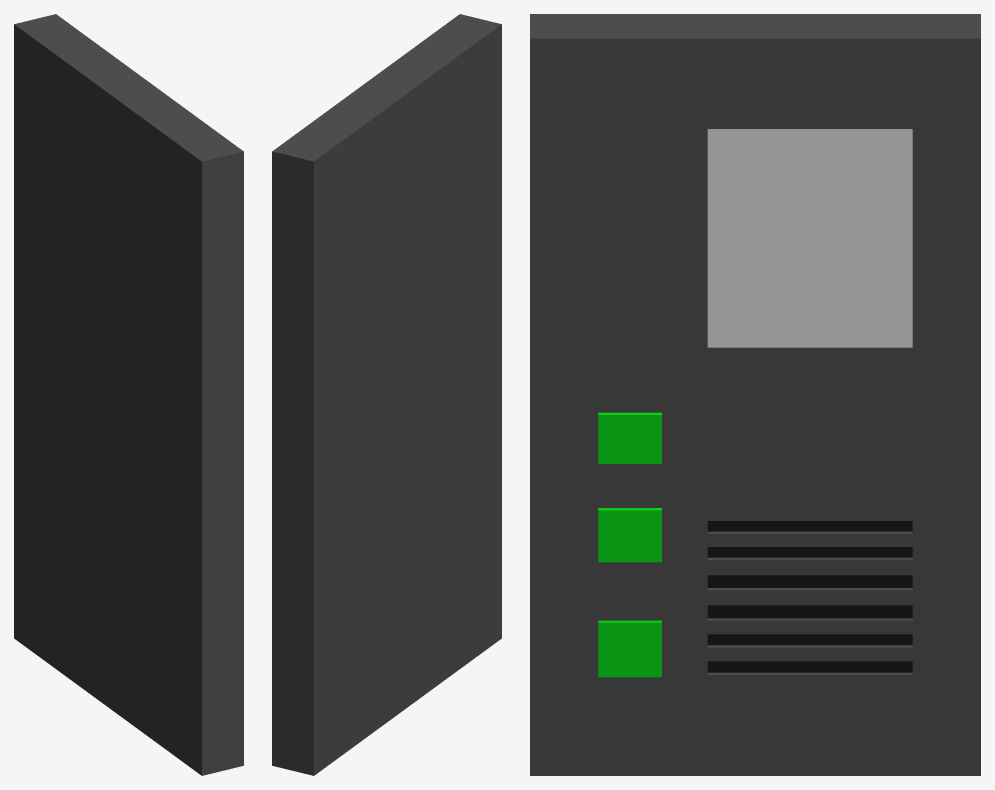
The model's file is charger.fbx.
3 views of the same model, side by side, from view 1: azimuth 30°, elevation 25°; view 2: azimuth 150°, elevation 25°; view 3: azimuth 270°, elevation 25° (orthographic). The views are drawn at different scales.
Visible parts, largest first — view 1: Plane; view 2: Plane; view 3: Plane.
Boxes of the visible parts, x1,y1,x2,y2 form: Plane: (14,14,243,775); Plane: (272,14,501,775); Plane: (530,14,980,775).
Size of the model in its own units: 28.06 by 361 by 200.
